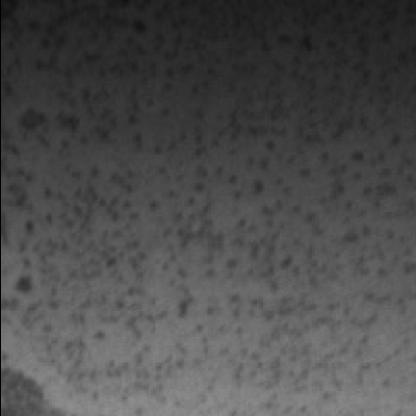pitted_surface: (12, 35, 416, 370), (3, 362, 68, 416)
